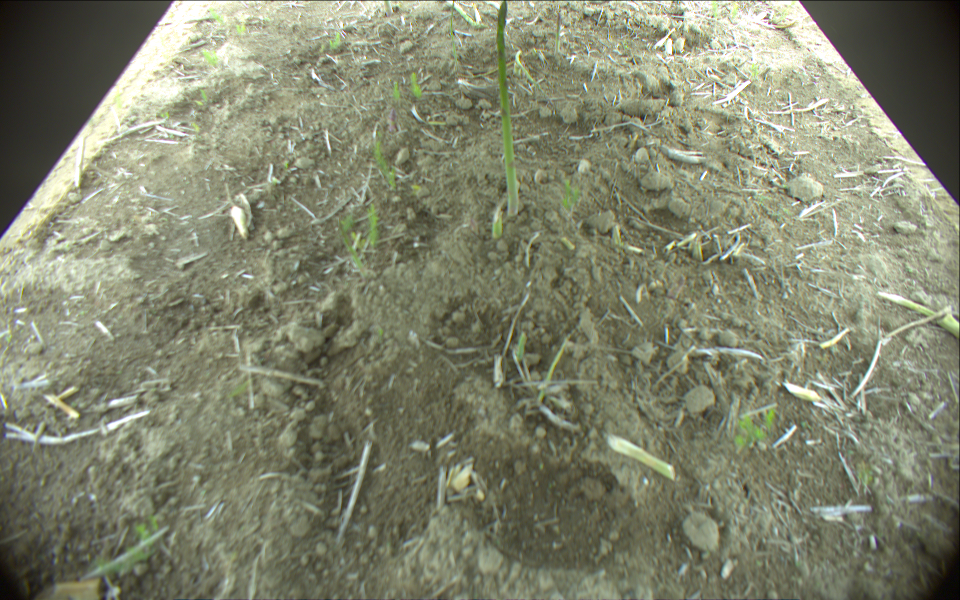aspa: (496, 1, 520, 216), (879, 289, 960, 340), (607, 433, 676, 484), (444, 1, 485, 29), (491, 201, 503, 239), (555, 8, 562, 55), (384, 1, 392, 18)
